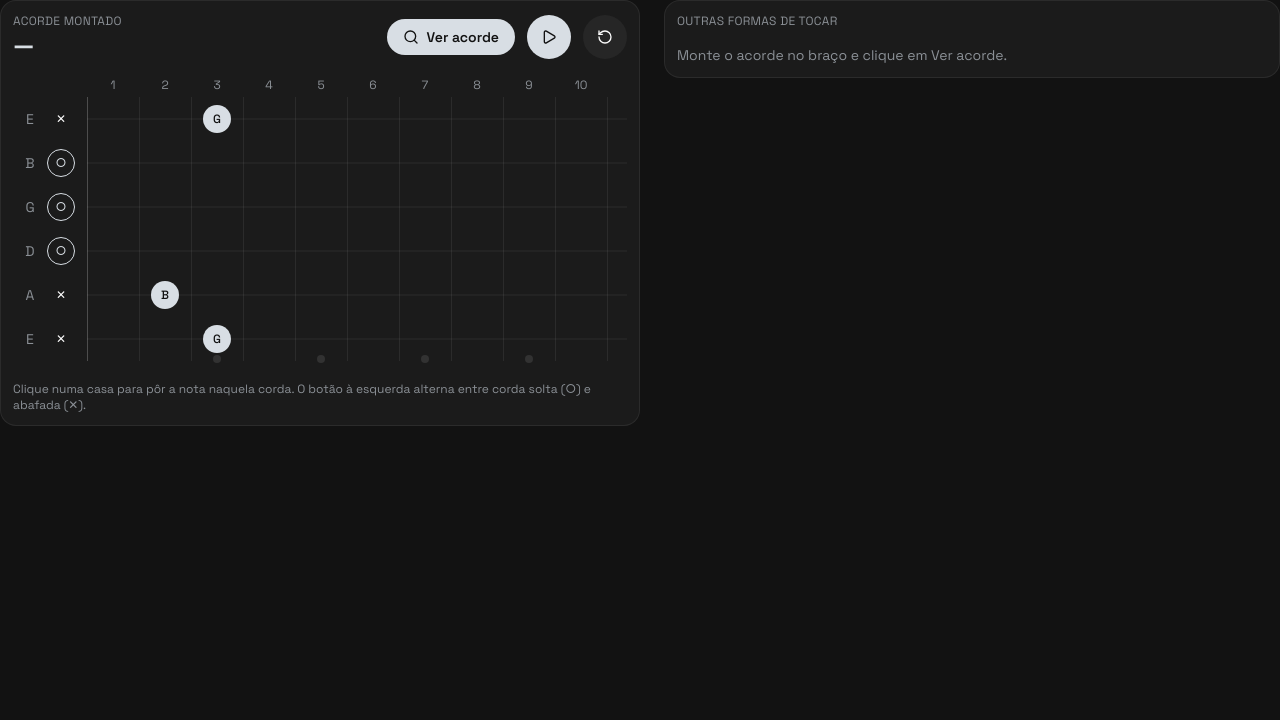
Test: ChordPanel › progressions › names the key the chord belongs to
What coordinates should you click on to do the following:
click the button "Ver acorde"
I would click on:
 (451, 37)
Its box is top-left (386, 19), bottom-right (515, 55).
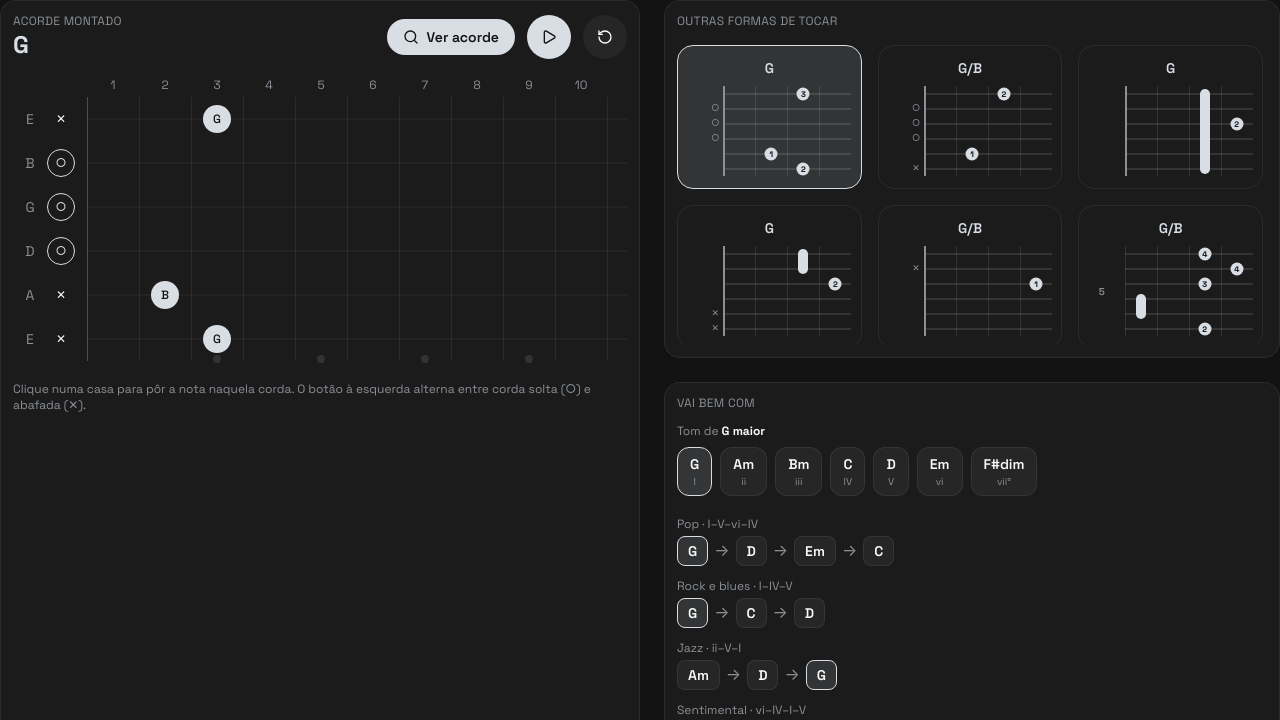
Expected: the text "G maior" is shown, top-left (722, 423), bottom-right (765, 439)
